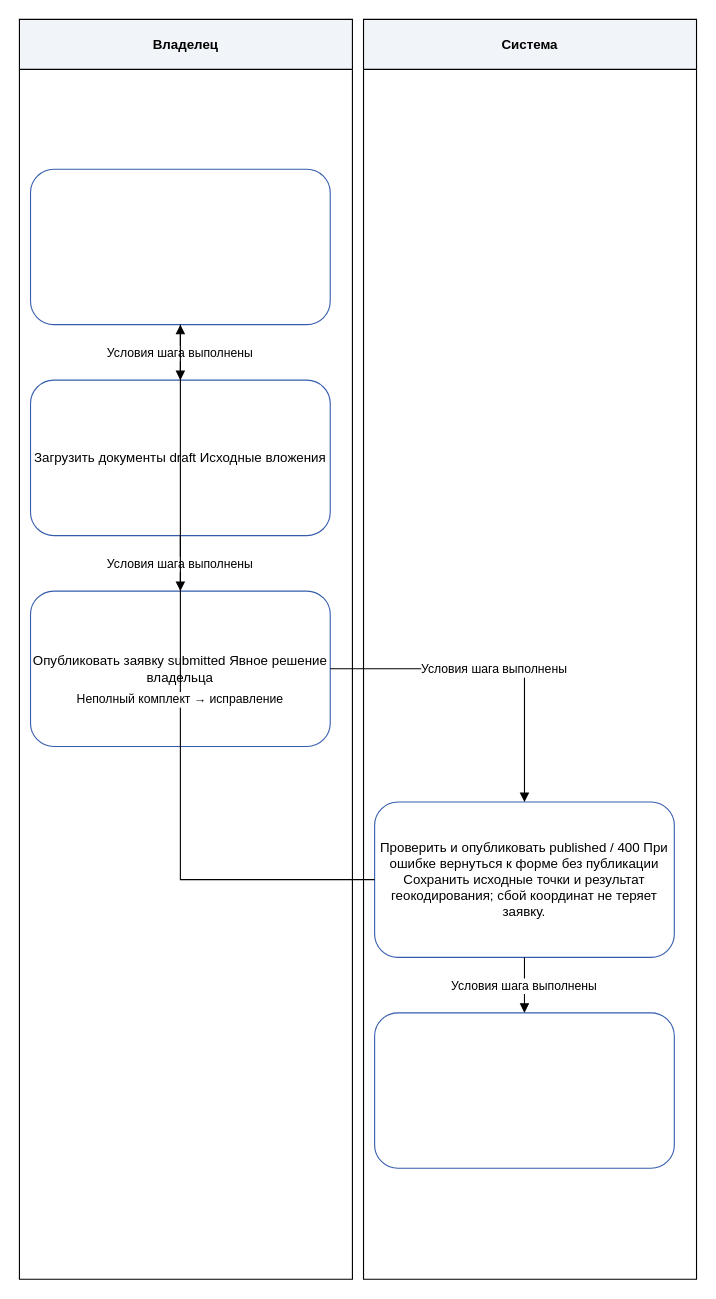
Some shapes in this 716 by 1299 pixel diagram are drawn without their labels. Here are the shapes that lost their labels. From the top down, the centre of each, then its label:
At (x=179, y=246): "Заполнить исходные поля draft Заказ, Bitrix, Incoterms, груз, срок".
At (x=524, y=1090): "Уведомить перевозчиков pending Журнал адресатов, доступ к исходным файлам".
